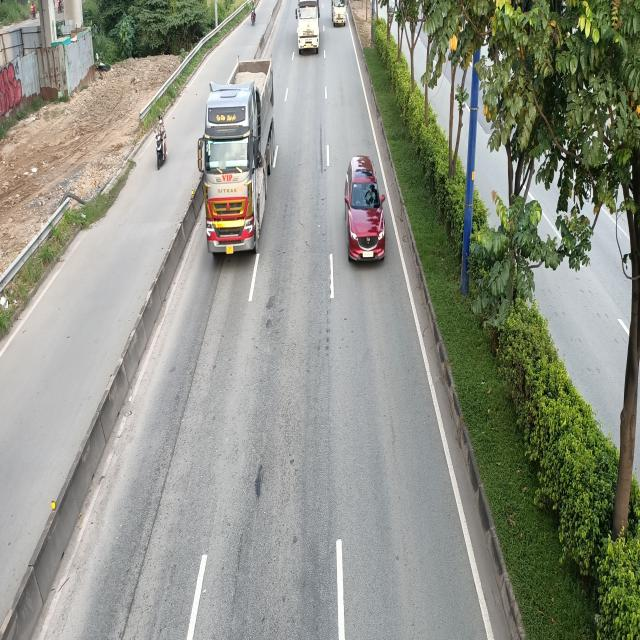car: (344, 156, 387, 264)
container: (200, 56, 280, 260), (295, 0, 320, 54)
